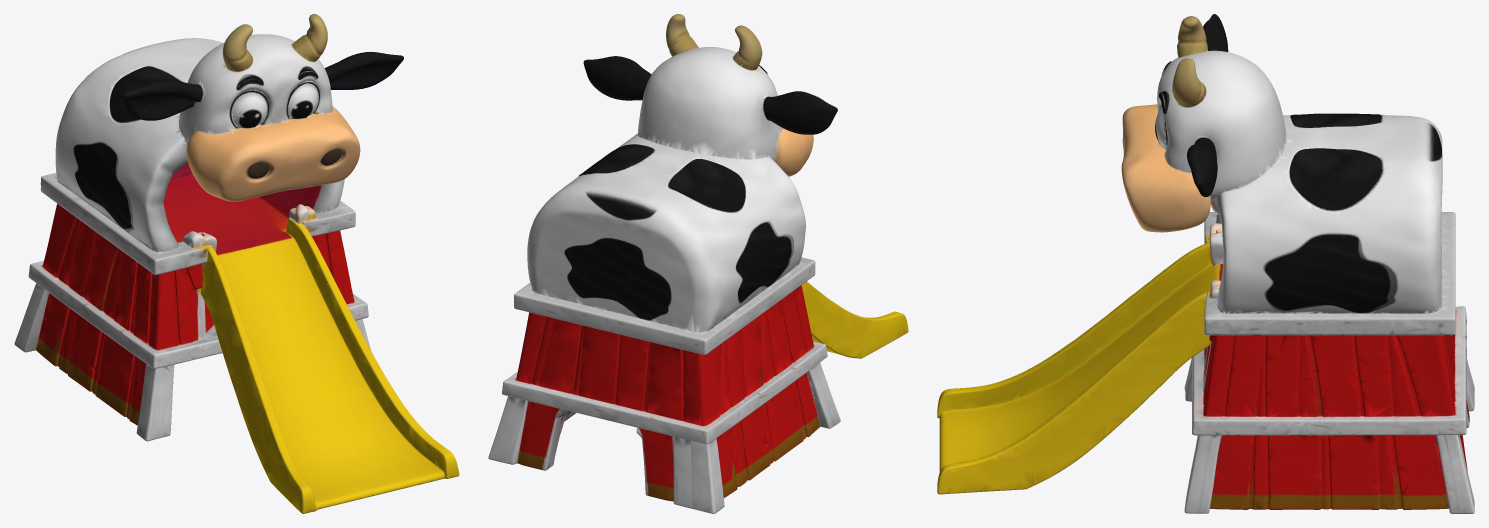
Rendered from CowSlide.glb.
The picture shows the model from 3 angles, left to right: view 1: azimuth 30°, elevation 25°; view 2: azimuth 150°, elevation 25°; view 3: azimuth 270°, elevation 25°; orthographic projection. The views are drawn at different scales.
Bounding box in the file's own units: 1.22 × 1.66 × 1.9.
Materials: 1 (1 with a texture image).
